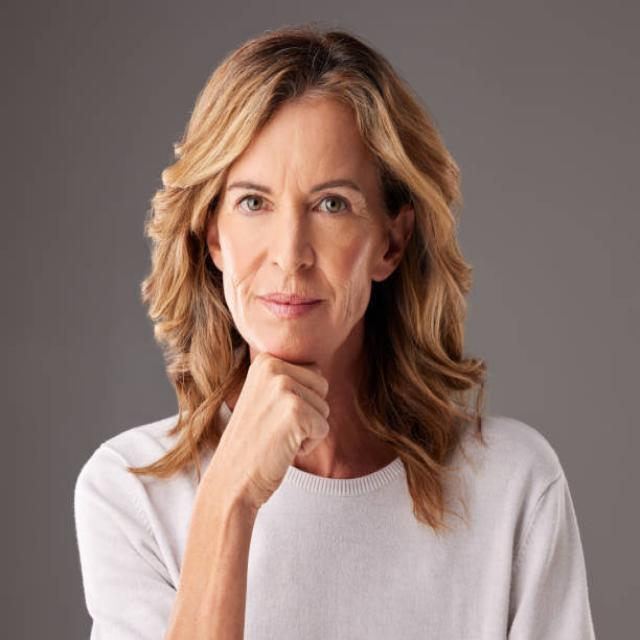Dry-Skin: (323, 226, 385, 338), (254, 123, 350, 182)
